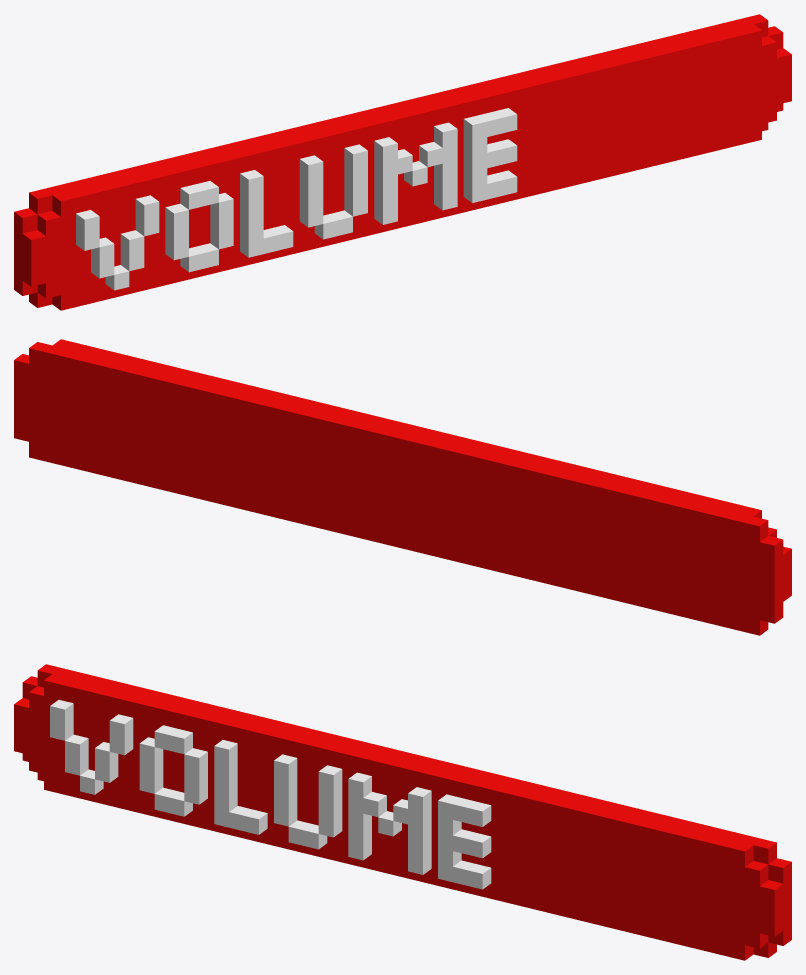
Rendered from volume.obj.
3 views of the same model, one above another, from view 1: azimuth 30°, elevation 25°; view 2: azimuth 150°, elevation 25°; view 3: azimuth 330°, elevation 25° (orthographic).
Visible parts, largest first — view 1: volume; view 2: volume; view 3: volume.
Boxes of the visible parts, x1,y1,x2,y2 form: volume: (14, 14, 791, 310); volume: (14, 339, 791, 635); volume: (14, 664, 791, 960).
Bounding box in the file's own units: 51 × 7 × 3.
1 material, 1 textured.
